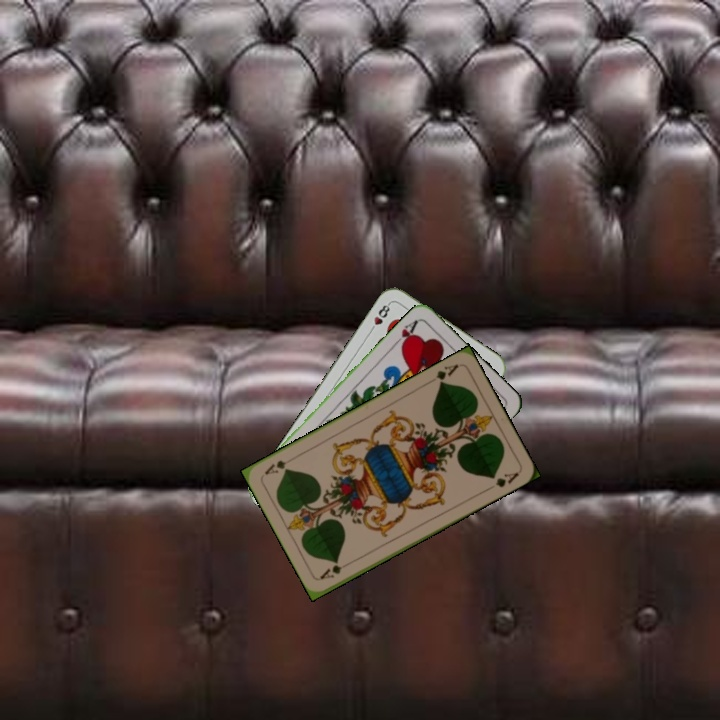GA: (316, 557, 354, 582), (432, 360, 461, 387)
H8: (366, 299, 393, 335)
HA: (389, 316, 421, 351)
